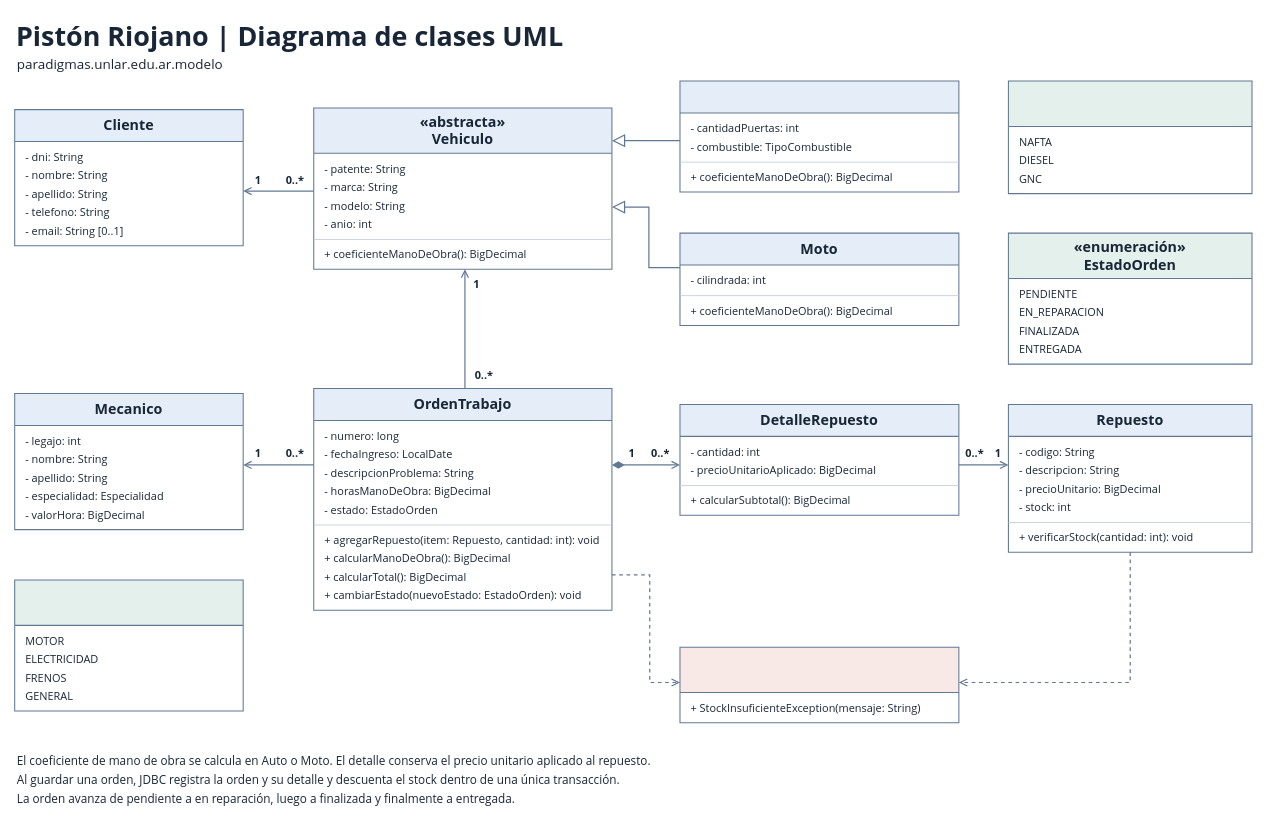
Some shapes in this 1268 by 822 pixel diagram are drawn without their labels. The box of each missing label's shape, as (x1, y1, x2, y2) in pixels:
Auto: (679, 80, 959, 192)
«enumeración» Especialidad: (14, 579, 243, 711)
«enumeración» TipoCombustible: (1007, 80, 1252, 194)
«excepción» StockInsuficienteException: (679, 646, 959, 723)
